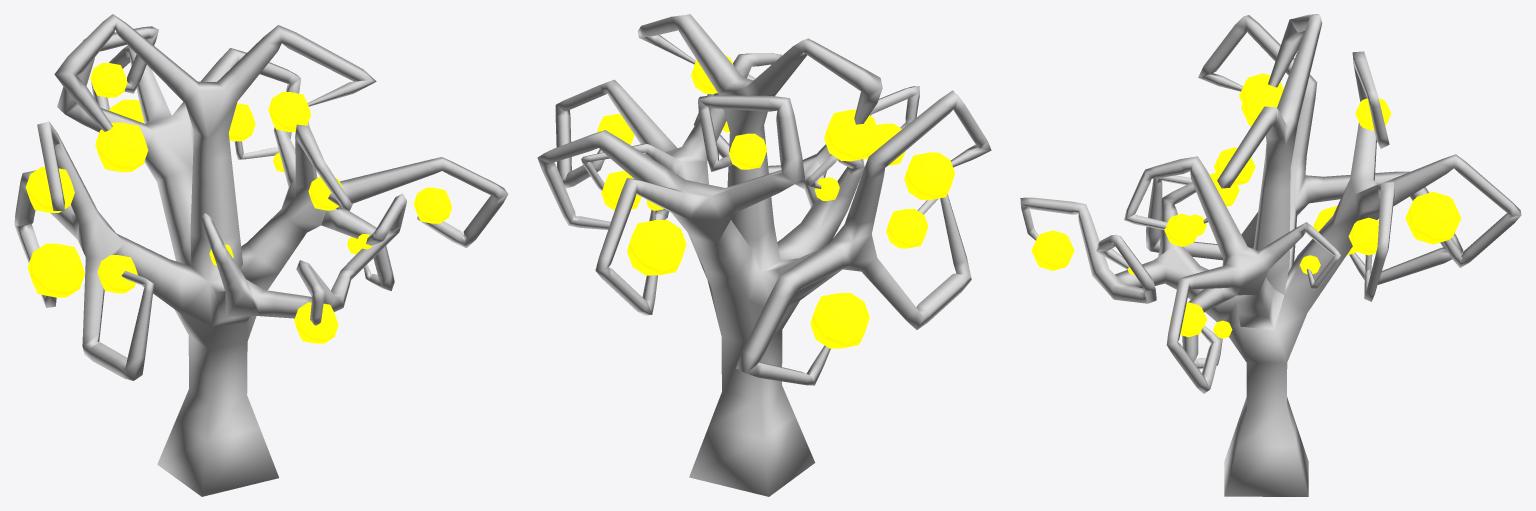
Rendered from CerebralShrub.fbx.
3 views of the same model, side by side, from view 1: azimuth 30°, elevation 25°; view 2: azimuth 150°, elevation 25°; view 3: azimuth 270°, elevation 25° (orthographic). The views are drawn at different scales.
Parts seen in each view (by area): view 1: Plane, Cube; view 2: Plane, Cube; view 3: Plane, Cube.
Part boxes in pixels (x1=…): Plane: x1=14, y1=14, x2=508, y2=496; Cube: x1=25, y1=62, x2=451, y2=343; Plane: x1=537, y1=14, x2=991, y2=496; Cube: x1=597, y1=55, x2=954, y2=348; Plane: x1=1020, y1=14, x2=1521, y2=496; Cube: x1=1031, y1=73, x2=1461, y2=338.
Bounding box in the file's own units: 1139 × 1136 × 1204.
